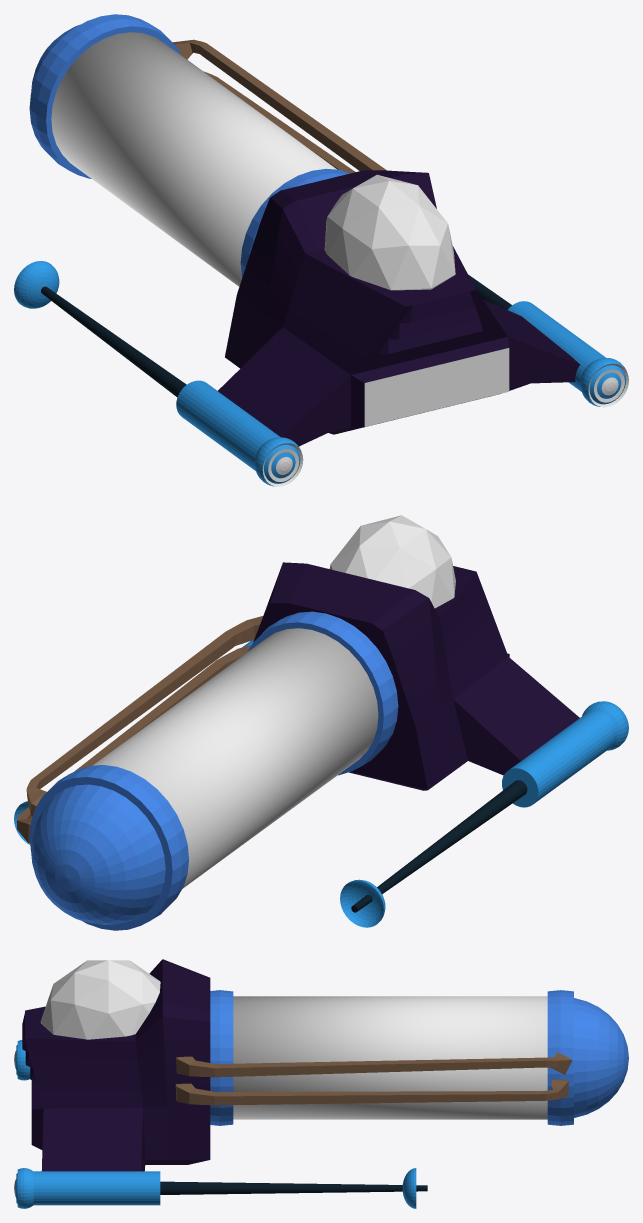
Rendered from sandy_v3.fbx.
3 views of the same model, one above another, from view 1: azimuth 30°, elevation 25°; view 2: azimuth 150°, elevation 25°; view 3: azimuth 270°, elevation 25° (orthographic). The views are drawn at different scales.
Parts seen in each view (by area): view 1: cabin, engine, Icosphere.001, cabin.003, end cap, wing, pipe.001, laser.001, wing.001, shooty.001, diode, Sphere.002 (+6 smaller); view 2: engine, cabin, end cap, Icosphere.001, wing, pipe.001, diode, laser.001, pipe, shooty.001, Sphere.002; view 3: engine, cabin, end cap, Icosphere.001, pipe, pipe.001, wing.001, laser, diode, Sphere, shooty, Sphere.002.
Boxes of the visible parts, left/top/right/bottom form: cabin: left=218, top=170, right=580, bottom=446; engine: left=51, top=32, right=336, bottom=286; Icosphere.001: left=324, top=174, right=455, bottom=290; cabin.003: left=378, top=351, right=495, bottom=423; end cap: left=29, top=14, right=181, bottom=178; wing: left=176, top=380, right=280, bottom=470; pipe.001: left=172, top=39, right=386, bottom=170; laser.001: left=41, top=286, right=186, bottom=397; wing.001: left=508, top=301, right=605, bottom=391; shooty.001: left=14, top=261, right=59, bottom=308; diode: left=240, top=168, right=350, bottom=277; Sphere.002: left=254, top=437, right=301, bottom=486; engine: left=93, top=628, right=378, bottom=888; cabin: left=253, top=562, right=579, bottom=790; end cap: left=29, top=765, right=188, bottom=930; Icosphere.001: left=329, top=515, right=455, bottom=608; wing: left=502, top=710, right=616, bottom=807; pipe.001: left=26, top=616, right=262, bottom=815; diode: left=248, top=611, right=398, bottom=775; laser.001: left=351, top=780, right=527, bottom=912; pipe: left=17, top=645, right=251, bottom=843; shooty.001: left=340, top=879, right=385, bottom=927; Sphere.002: left=582, top=701, right=628, bottom=750; engine: left=233, top=996, right=547, bottom=1119; cabin: left=22, top=959, right=210, bottom=1171; end cap: left=547, top=990, right=628, bottom=1125; Icosphere.001: left=40, top=960, right=160, bottom=1039; pipe: left=175, top=1079, right=568, bottom=1105; pipe.001: left=176, top=1052, right=572, bottom=1077; wing.001: left=33, top=1171, right=160, bottom=1205; laser: left=160, top=1181, right=427, bottom=1194; diode: left=210, top=990, right=233, bottom=1125; Sphere: left=15, top=1168, right=33, bottom=1208; shooty: left=402, top=1168, right=416, bottom=1208; Sphere.002: left=15, top=1040, right=30, bottom=1080.
Bounding box in the file's own units: 506 × 296 × 902.
